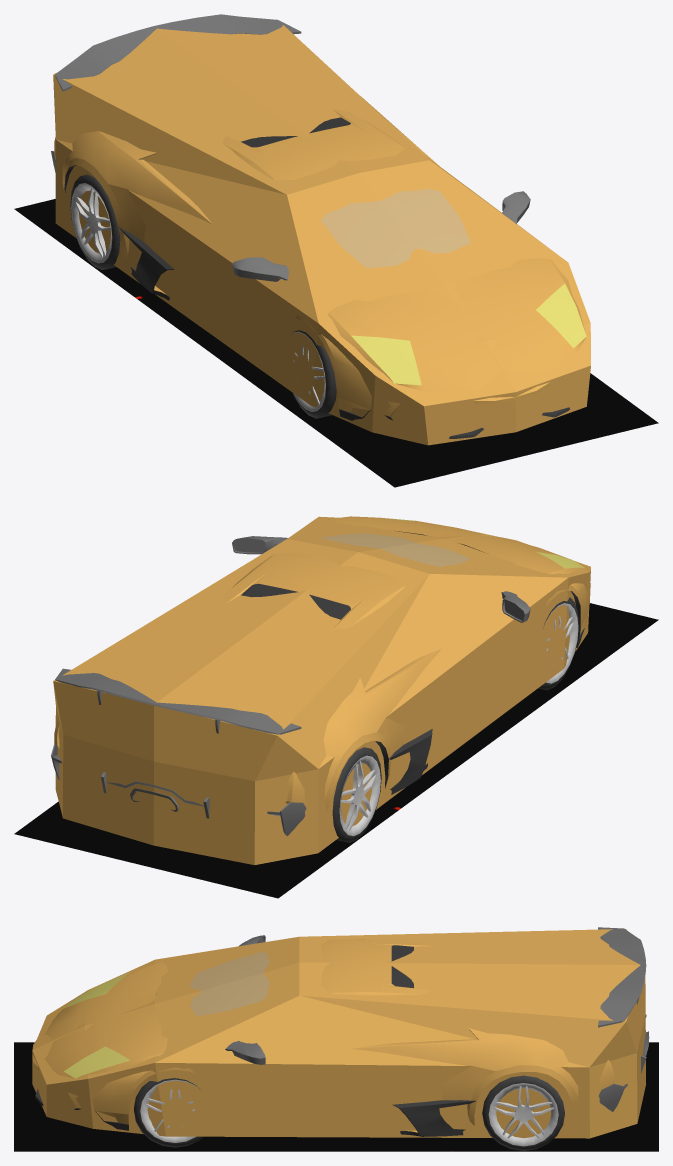
File: Lagoon.fbx
3 renders of one model, top to bottom at view 1: azimuth 30°, elevation 25°; view 2: azimuth 150°, elevation 25°; view 3: azimuth 270°, elevation 25°, orthographic. The views are drawn at different scales.
Parts seen in each view (by area): view 1: Lagoon_body_col, Lagoon_body, CarShadow, Lagoon_wheel_RR, Lagoon_wheel_FR; view 2: Lagoon_body_col, Lagoon_body, CarShadow, Lagoon_wheel_RR, Lagoon_wheel_FR; view 3: Lagoon_body_col, Lagoon_body, CarShadow, Lagoon_wheel_RL, Lagoon_wheel_FL.
Part boxes in pixels (x1,y1,x2,y2): Lagoon_body_col: [53, 19, 590, 445]; Lagoon_body: [51, 14, 586, 438]; CarShadow: [14, 199, 658, 487]; Lagoon_wheel_RR: [70, 174, 120, 269]; Lagoon_wheel_FR: [290, 330, 336, 418]; Lagoon_body_col: [53, 516, 590, 865]; Lagoon_body: [51, 516, 590, 836]; CarShadow: [14, 603, 658, 898]; Lagoon_wheel_RR: [332, 747, 381, 842]; Lagoon_wheel_FR: [538, 597, 579, 690]; Lagoon_body_col: [32, 929, 645, 1138]; Lagoon_body: [32, 927, 649, 1136]; CarShadow: [14, 1042, 658, 1151]; Lagoon_wheel_RL: [482, 1075, 564, 1150]; Lagoon_wheel_FL: [134, 1078, 203, 1147].
Bounding box in the file's own units: 2.2 × 1.14 × 4.93.
